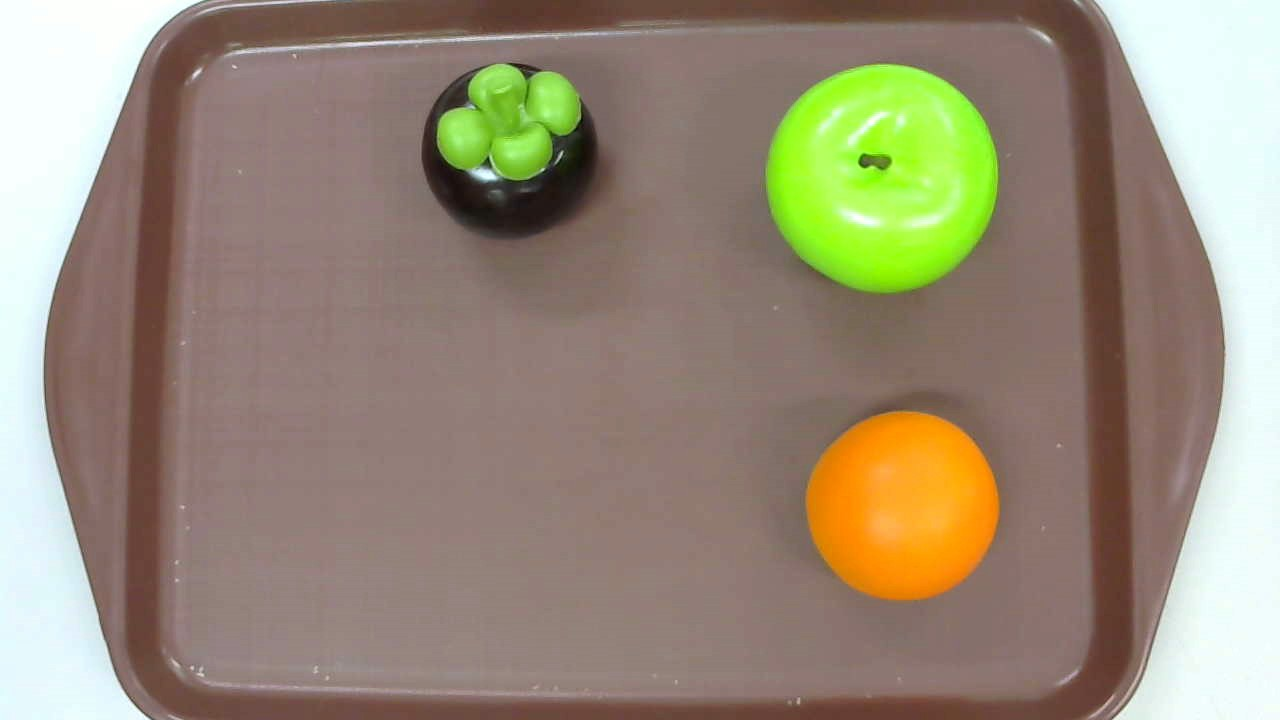bun: (806, 411, 1000, 603)
green apple: (764, 63, 998, 296)
mangosteen: (422, 61, 600, 241)
